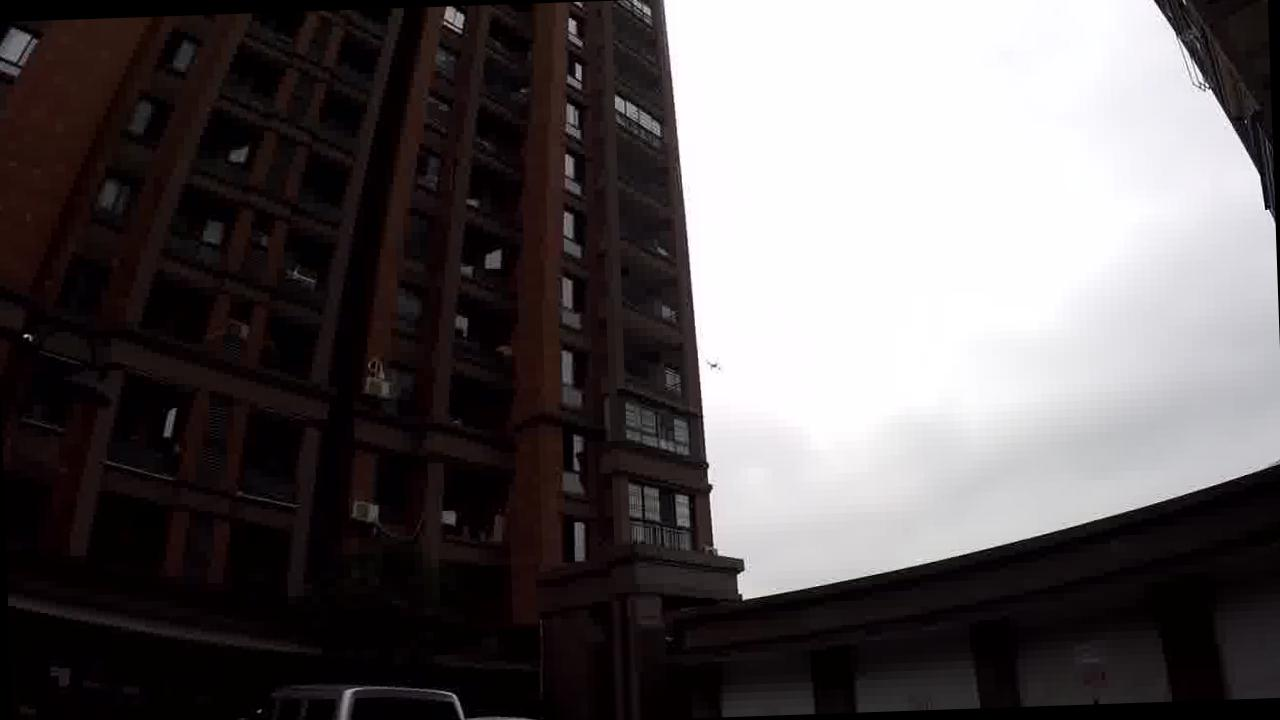drone: (704, 355, 724, 375)
